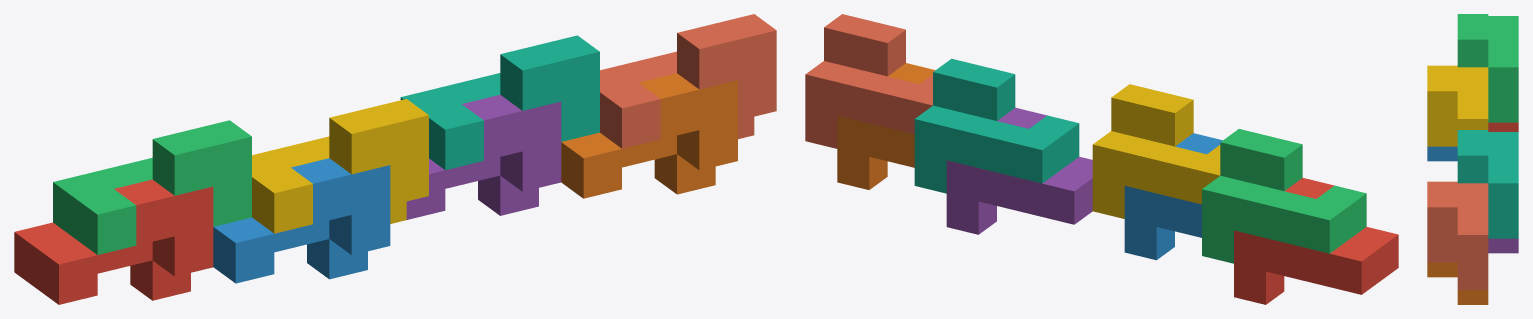
The model's file is tiling.obj.
3 renders of one model, left to right at view 1: azimuth 30°, elevation 25°; view 2: azimuth 150°, elevation 25°; view 3: azimuth 270°, elevation 25°, orthographic. The views are drawn at different scales.
Parts seen in each view (by area): view 1: copy_1_domain_1, copy_1_domain_3, copy_1_domain_8, copy_1_domain_4, copy_1_domain_7, copy_1_domain_2, copy_1_domain_6, copy_1_domain_5; view 2: copy_1_domain_7, copy_1_domain_3, copy_1_domain_4, copy_1_domain_8, copy_1_domain_1, copy_1_domain_5, copy_1_domain_2, copy_1_domain_6; view 3: copy_1_domain_8, copy_1_domain_3, copy_1_domain_7, copy_1_domain_4, copy_1_domain_6, copy_1_domain_2, copy_1_domain_5, copy_1_domain_1.
Part boxes in pixels (bbox=[...]): copy_1_domain_1: bbox=[14, 179, 213, 304]; copy_1_domain_3: bbox=[53, 120, 251, 254]; copy_1_domain_8: bbox=[600, 14, 776, 148]; copy_1_domain_4: bbox=[252, 99, 428, 233]; copy_1_domain_7: bbox=[400, 35, 599, 170]; copy_1_domain_2: bbox=[213, 158, 390, 283]; copy_1_domain_6: bbox=[561, 73, 737, 198]; copy_1_domain_5: bbox=[406, 95, 561, 219]; copy_1_domain_7: bbox=[914, 58, 1079, 193]; copy_1_domain_3: bbox=[1202, 129, 1366, 263]; copy_1_domain_4: bbox=[1092, 84, 1220, 218]; copy_1_domain_8: bbox=[805, 14, 932, 148]; copy_1_domain_1: bbox=[1234, 178, 1398, 304]; copy_1_domain_5: bbox=[946, 107, 1092, 234]; copy_1_domain_2: bbox=[1124, 133, 1222, 260]; copy_1_domain_6: bbox=[837, 63, 935, 189]; copy_1_domain_8: bbox=[1427, 181, 1488, 290]; copy_1_domain_3: bbox=[1457, 14, 1518, 122]; copy_1_domain_7: bbox=[1457, 130, 1518, 238]; copy_1_domain_4: bbox=[1427, 65, 1488, 146]; copy_1_domain_6: bbox=[1427, 262, 1488, 304]; copy_1_domain_2: bbox=[1427, 146, 1457, 161]; copy_1_domain_5: bbox=[1488, 238, 1518, 253]; copy_1_domain_1: bbox=[1488, 122, 1518, 131].
Bounding box in the file's own units: 18 × 4 × 3.
